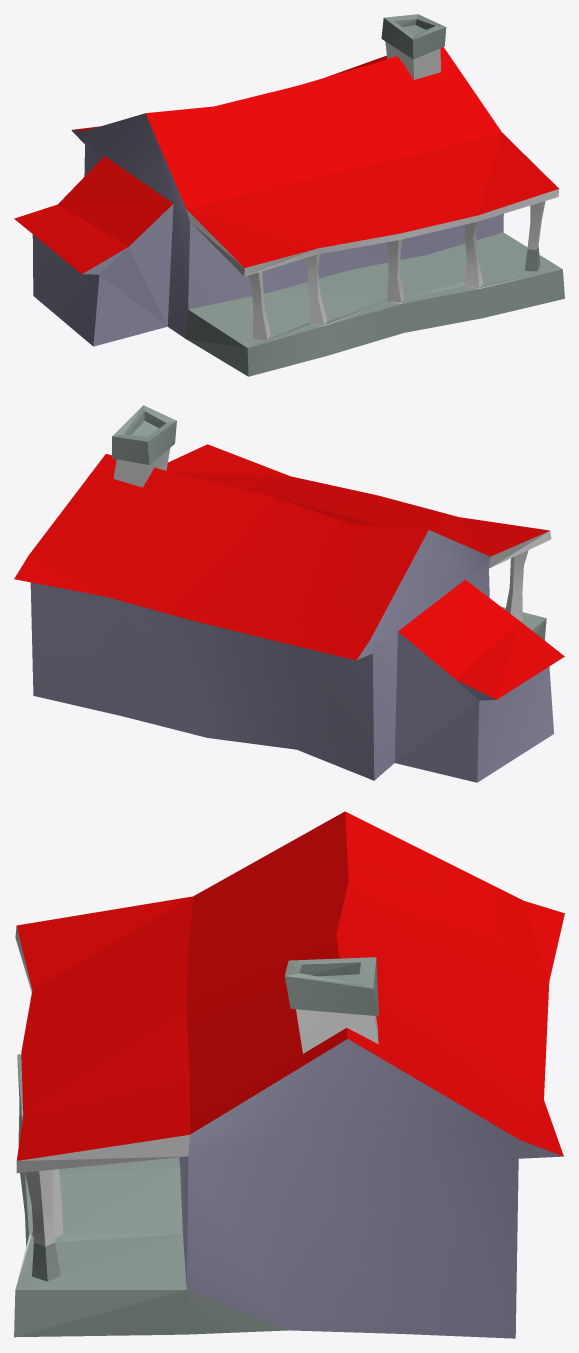
File: Farmhouse.fbx
The picture shows the model from 3 angles, top to bottom: view 1: azimuth 30°, elevation 25°; view 2: azimuth 150°, elevation 25°; view 3: azimuth 270°, elevation 25°; orthographic projection. The views are drawn at different scales.
Parts seen in each view (by area): view 1: Farmhouse; view 2: Farmhouse; view 3: Farmhouse.
Boxes of the visible parts, left/top/right/bottom form: Farmhouse: left=14, top=14, right=564, bottom=376; Farmhouse: left=14, top=405, right=564, bottom=782; Farmhouse: left=14, top=811, right=564, bottom=1338.
Size of the model in its own units: 26.07 by 13.46 by 19.44.
